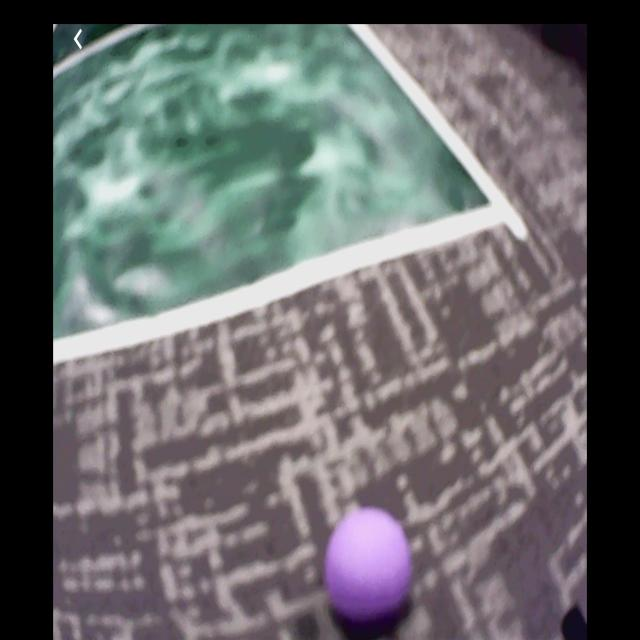ball: (328, 509, 408, 624)
